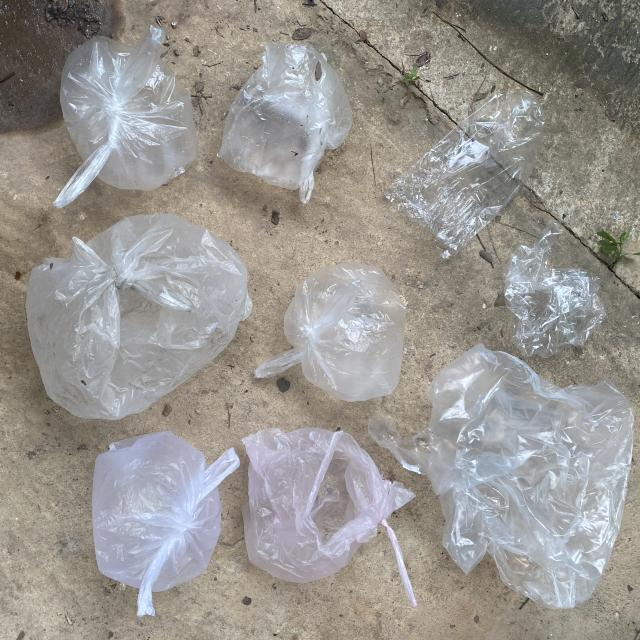Single-layer Plastic: (426, 345, 634, 609), (26, 214, 251, 419), (92, 431, 239, 616), (242, 428, 414, 582), (386, 92, 544, 258), (54, 26, 198, 208), (218, 41, 352, 204), (255, 262, 406, 401), (504, 222, 605, 358)
